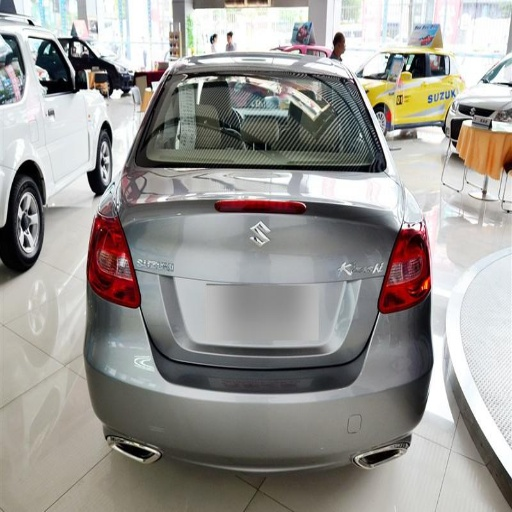back_bumper: (90, 294, 434, 481)
back_left_light: (87, 203, 139, 307)
tailgate: (117, 164, 402, 357)
trunk: (142, 168, 366, 288)
